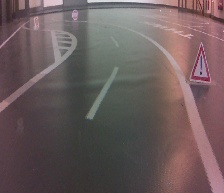warning sign: (188, 41, 212, 85)
